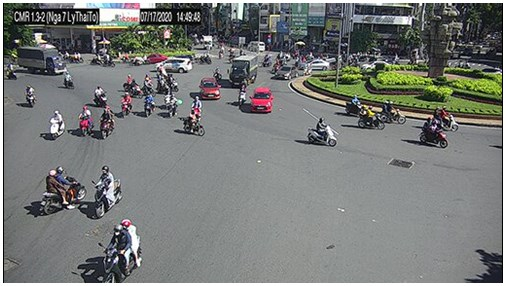xe_hoi: (250, 86, 275, 113), (155, 57, 193, 73), (200, 78, 221, 101), (275, 65, 298, 80), (298, 59, 329, 70)
xe_khach: (248, 40, 266, 53)
xe_may: (99, 219, 144, 283), (40, 167, 86, 214), (91, 165, 122, 218), (418, 118, 448, 150), (308, 117, 338, 148), (181, 108, 205, 138), (358, 105, 385, 131), (432, 106, 459, 132), (381, 101, 407, 125), (99, 106, 116, 141), (48, 109, 66, 140), (79, 105, 93, 138), (345, 93, 364, 116), (24, 84, 39, 109), (94, 84, 108, 108), (121, 92, 133, 119), (143, 91, 155, 118), (128, 79, 142, 100), (143, 77, 156, 98), (166, 73, 179, 93), (122, 75, 137, 91), (63, 71, 75, 90), (157, 75, 169, 94), (237, 84, 246, 108), (102, 54, 116, 68), (199, 53, 213, 65), (262, 54, 272, 68), (302, 63, 312, 77), (213, 67, 222, 81), (217, 46, 226, 60)
xe_tai: (16, 45, 66, 74), (229, 56, 257, 87)
